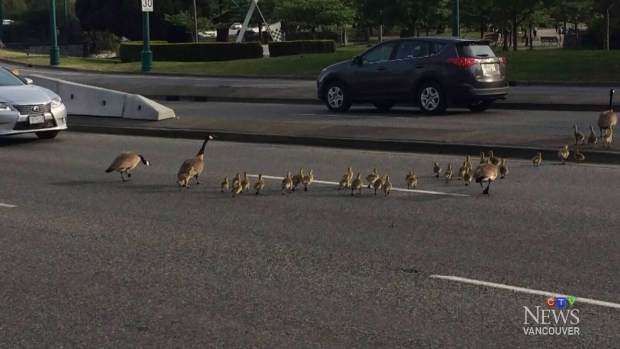goose: (174, 133, 218, 187), (104, 150, 151, 182), (470, 157, 505, 197), (595, 87, 618, 138)
